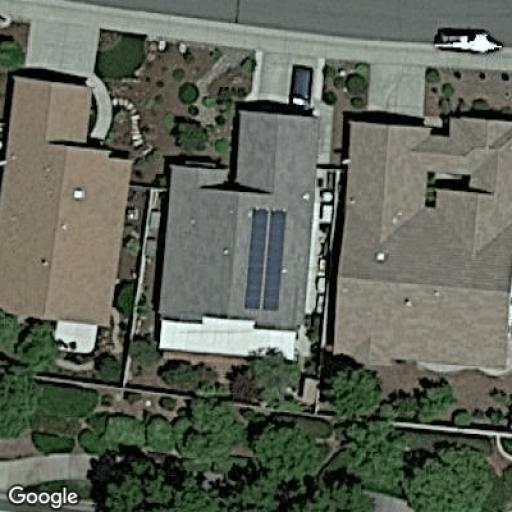solar-panel: (242, 206, 289, 312)
